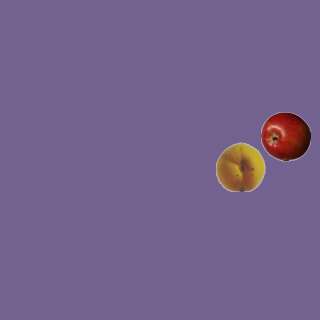Apple Braeburn: (260, 111, 310, 161)
Peach 2: (215, 141, 265, 191)
